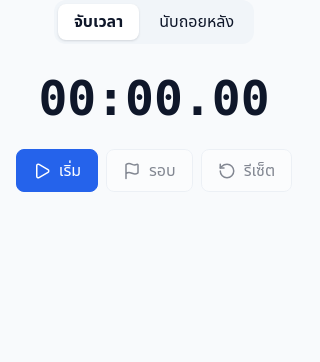
Scenario: TimerWidget › counts down and announces when time is up
Click the tab "นับถอยหลัง" at (197, 22), box left=143, top=4, right=250, bottom=40
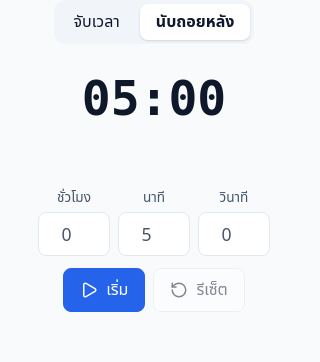
Replace the text in the number field labelled "นาที" with "0" at (154, 234), box left=118, top=212, right=190, bottom=256
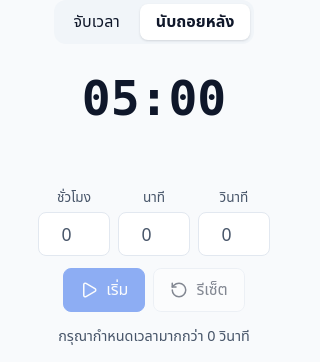
Replace the text in the number field labelled "วินาที" with "3" at (234, 234), box left=198, top=212, right=270, bottom=256
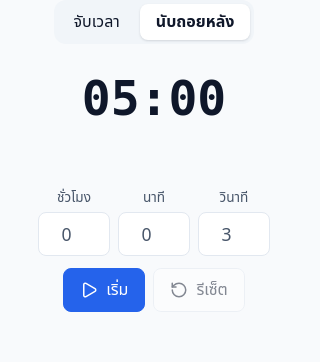
Click the button "เริ่ม" at (104, 290), box left=63, top=268, right=145, bottom=312
Wait 3500 ms
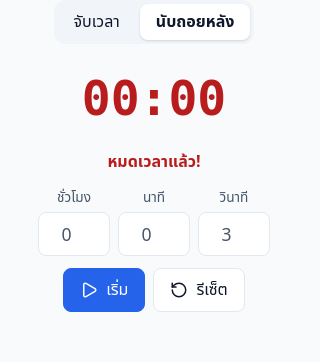
Check: the text "หมดเวลาแล้ว!" is shown, box left=107, top=149, right=201, bottom=174
Check: the text "00:00" is shown, box left=82, top=60, right=226, bottom=137
